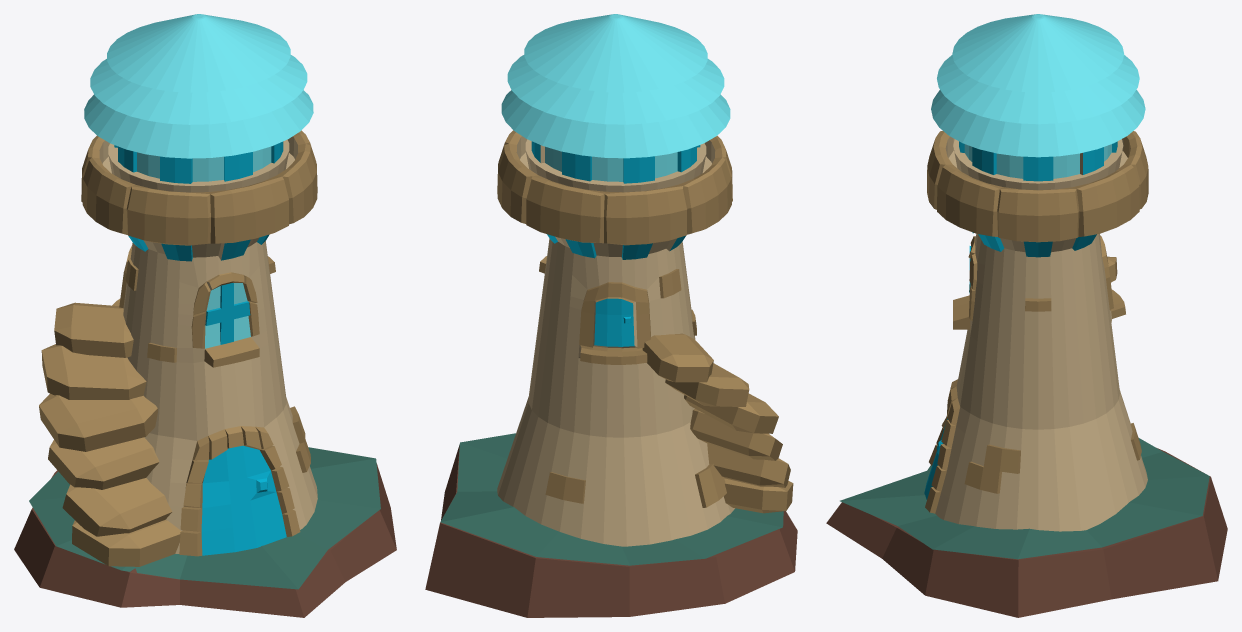
Rendered from kale_hava_merdvenl.fbx.
The picture shows the model from 3 angles, left to right: view 1: azimuth 30°, elevation 25°; view 2: azimuth 150°, elevation 25°; view 3: azimuth 270°, elevation 25°; orthographic projection. The views are drawn at different scales.
Parts seen in each view (by area): view 1: Cylinder.003, Cube, Circle.003, cımen.002; view 2: Cylinder.003, Circle.003, Cube, cımen.002; view 3: Cylinder.003, Circle.003, cımen.002.
Boxes of the visible parts, box(x1,y1,x2,y2) form: Cylinder.003: box(81, 14, 317, 556); Cube: box(39, 302, 181, 566); Circle.003: box(14, 463, 396, 617); cımen.002: box(29, 447, 380, 589); Cylinder.003: box(497, 14, 734, 546); Circle.003: box(425, 445, 797, 617); Cube: box(642, 333, 793, 513); cımen.002: box(440, 433, 783, 565); Cylinder.003: box(924, 14, 1148, 531); Circle.003: box(826, 448, 1227, 617); cımen.002: box(840, 438, 1209, 559).
Bounding box in the file's own units: 488 × 705 × 496.
